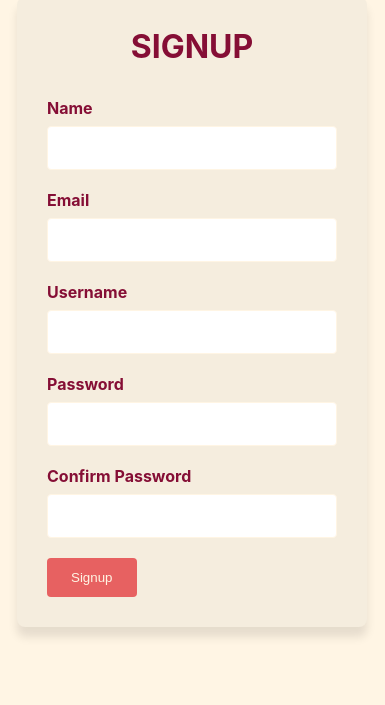
Test: Test sign up with INVALID password
// Simulate user input with an invalid password.
Type "Ahmad" into the field labelled "Name" at (192, 148), box [47,126,337,170]
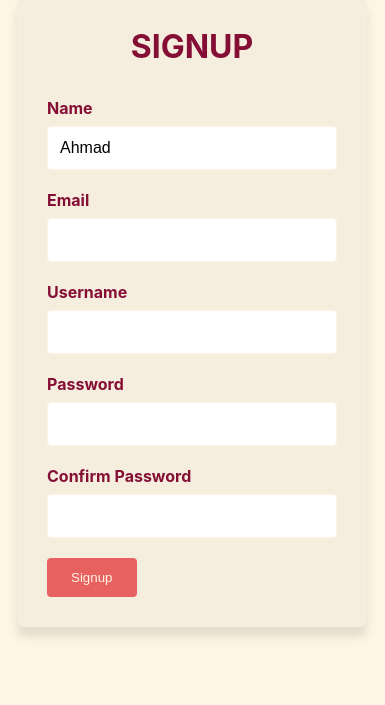
Type "DummyEmail@gmail.com" into the field labelled "Email" at (192, 240), box [47,218,337,262]
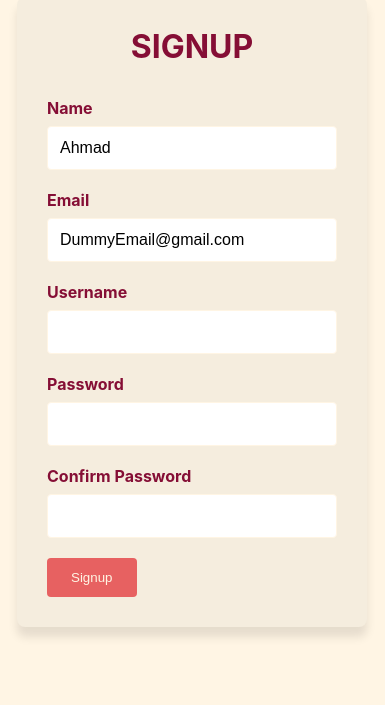
Type "AhmadTheBeast" into the field labelled "Username" at (192, 332), box [47,310,337,354]
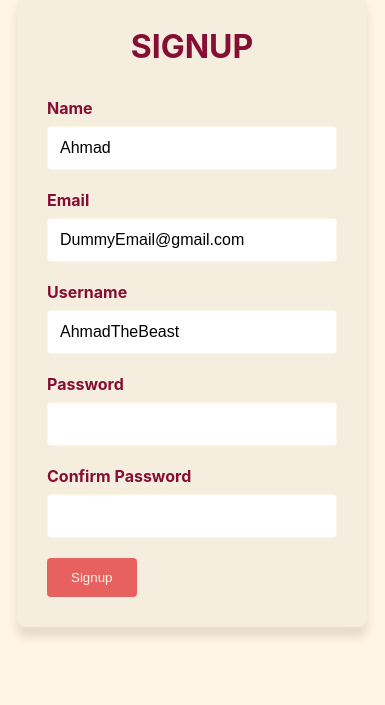
Type "bad password" into the password field labelled "Password" at (192, 424), box [47,402,337,446]
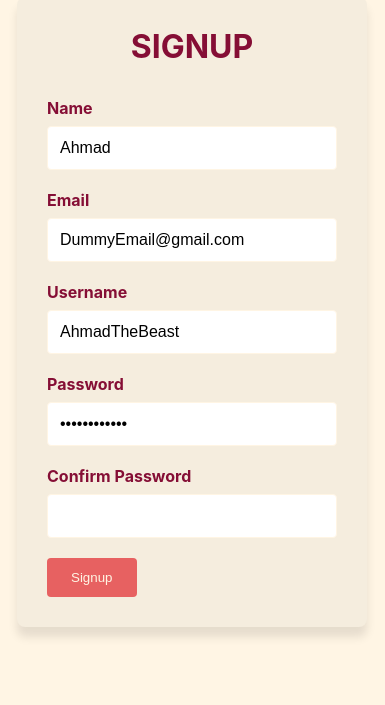
Type "bad password" into the password field labelled "Confirm Password" at (192, 516), box [47,494,337,538]
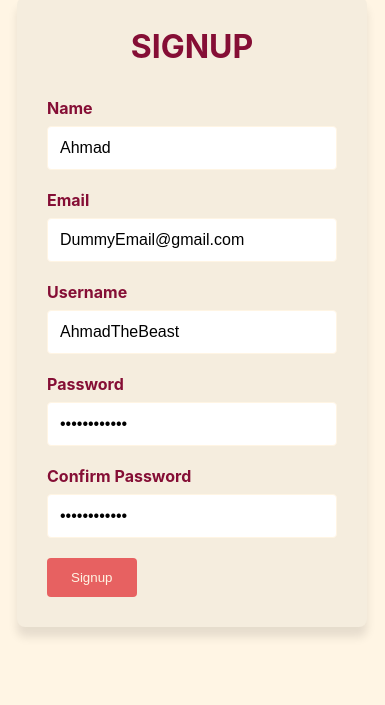
Click the button "Signup" at (92, 578), box [47,558,136,597]
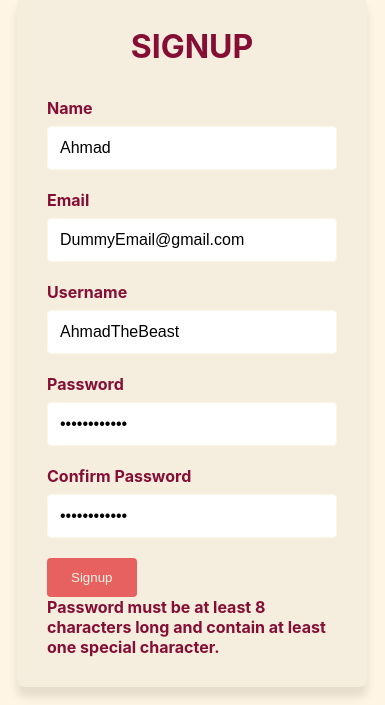
Result: the text "Password must be at least 8 characters long and contain at least one special character." is shown at [47,597,326,657]
